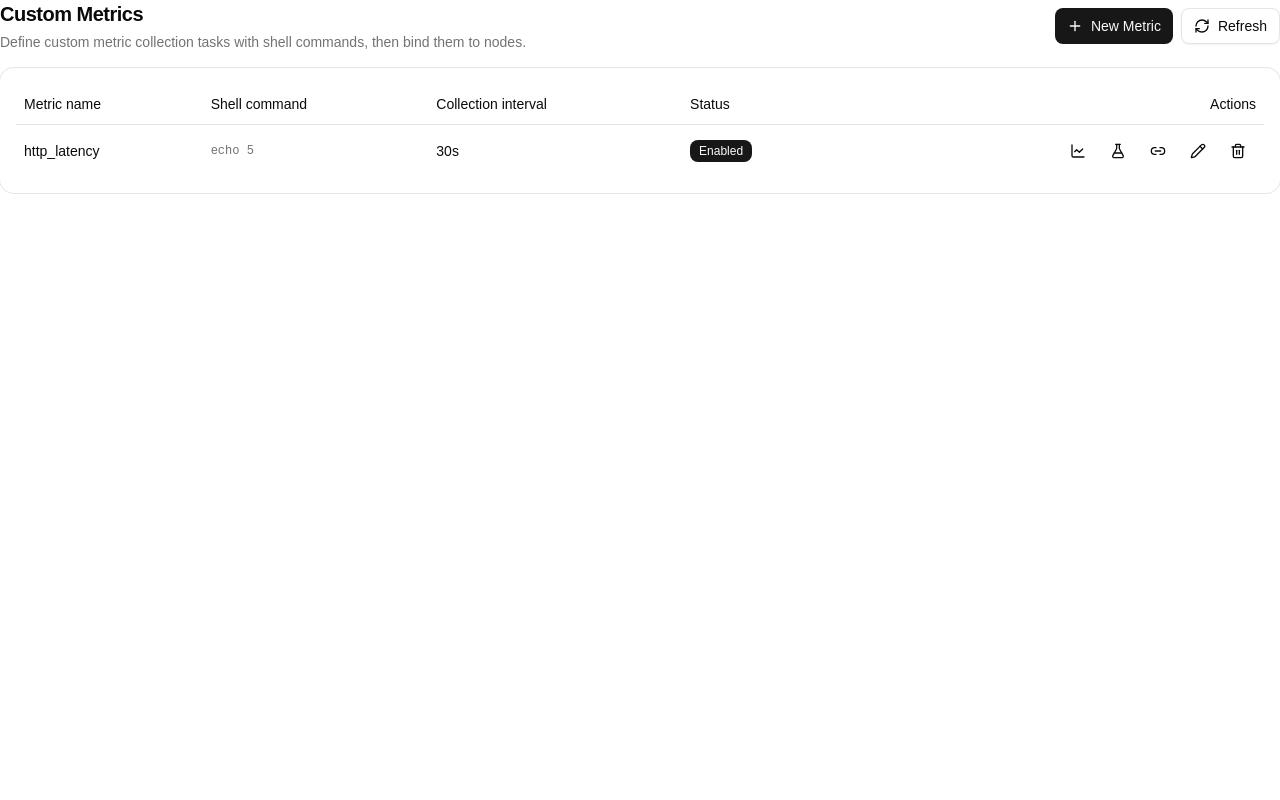
custom metrics › shows collection health next to the history
What coordinates should you click on to do the following:
click the button named "View data"
I would click on:
 (1078, 150)
Its box is [1060, 132, 1096, 168].
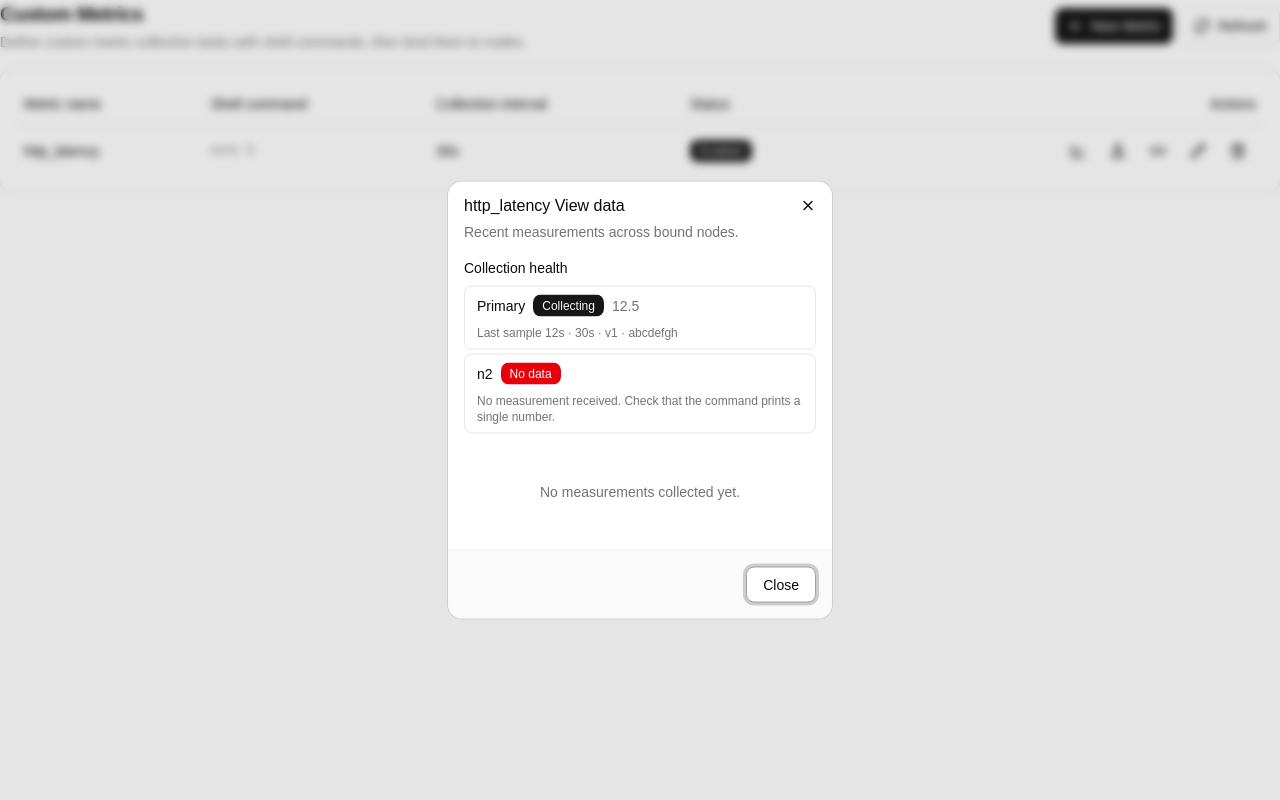
Check: the heading "Collection health" is shown, box [464, 260, 568, 276]
Check: the text "Collecting" is shown, box [533, 294, 604, 316]
Check: the text "No data" is shown, box [501, 362, 561, 384]
